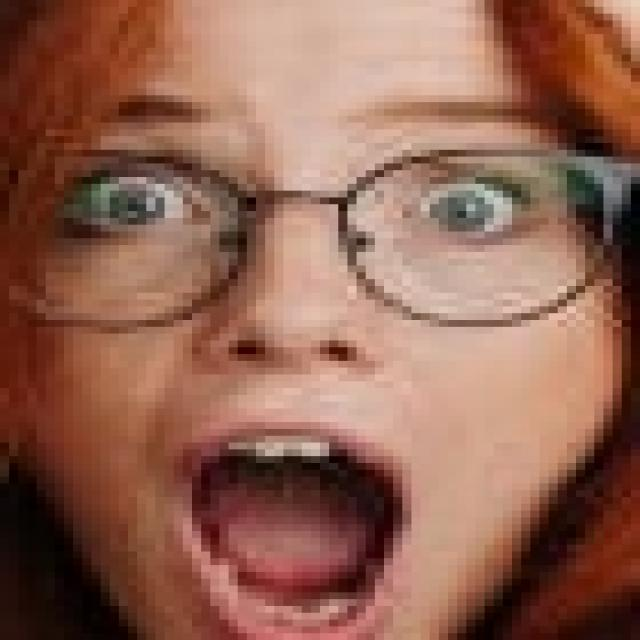Anxiety: (9, 0, 640, 633)
